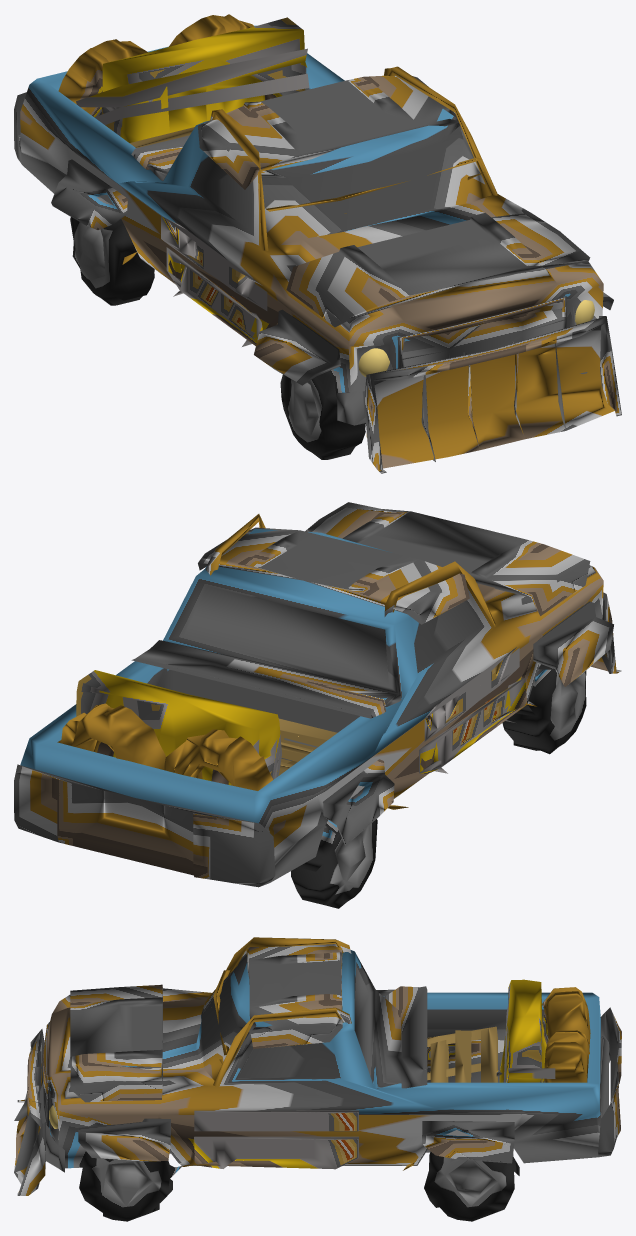
File: pickup_armored.glb
3 views of the same model, one above another, from view 1: azimuth 30°, elevation 25°; view 2: azimuth 150°, elevation 25°; view 3: azimuth 270°, elevation 25° (orthographic). The views are drawn at different scales.
Bounding box in the file's own units: 2.65 × 1.98 × 5.49.
2 materials, 1 textured.
